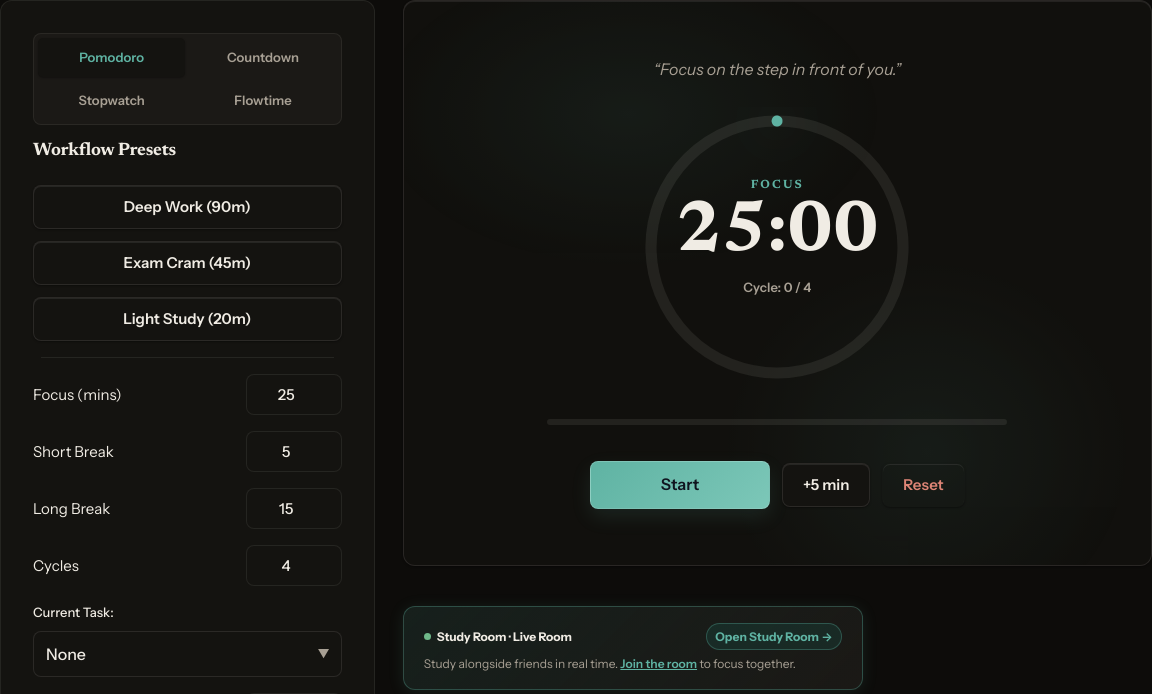
TimerView › adds five minutes with +5 min
The image size is (1152, 694).
Click the button "+5 min". click: (826, 485)
box: [782,463,870,507]
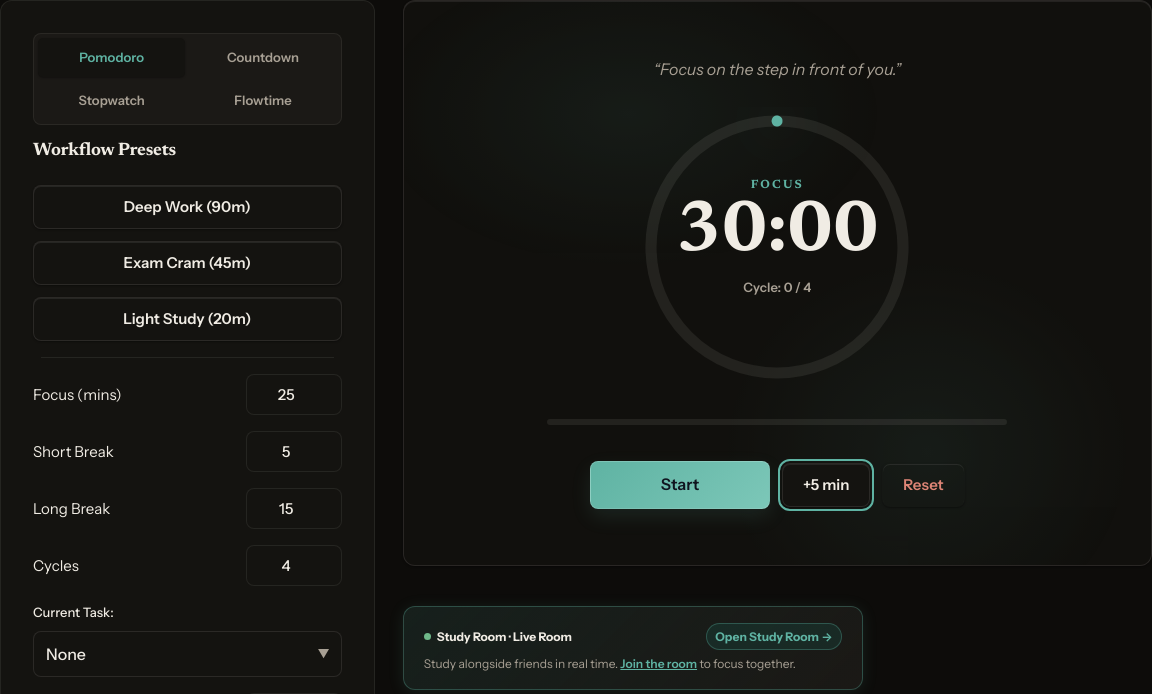
Expected: the text "30:00" is shown, [676,197,879,269]
